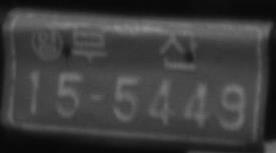-: (86, 89, 106, 103)
1: (20, 68, 48, 115)
4: (146, 74, 177, 126), (182, 78, 212, 130)
5: (111, 74, 141, 124), (53, 71, 82, 120)
9: (218, 82, 247, 133)
부산_D: (70, 23, 200, 73)
영: (29, 23, 64, 63)
